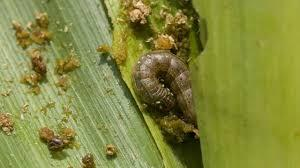fallarmy_worm: (133, 46, 201, 141)
